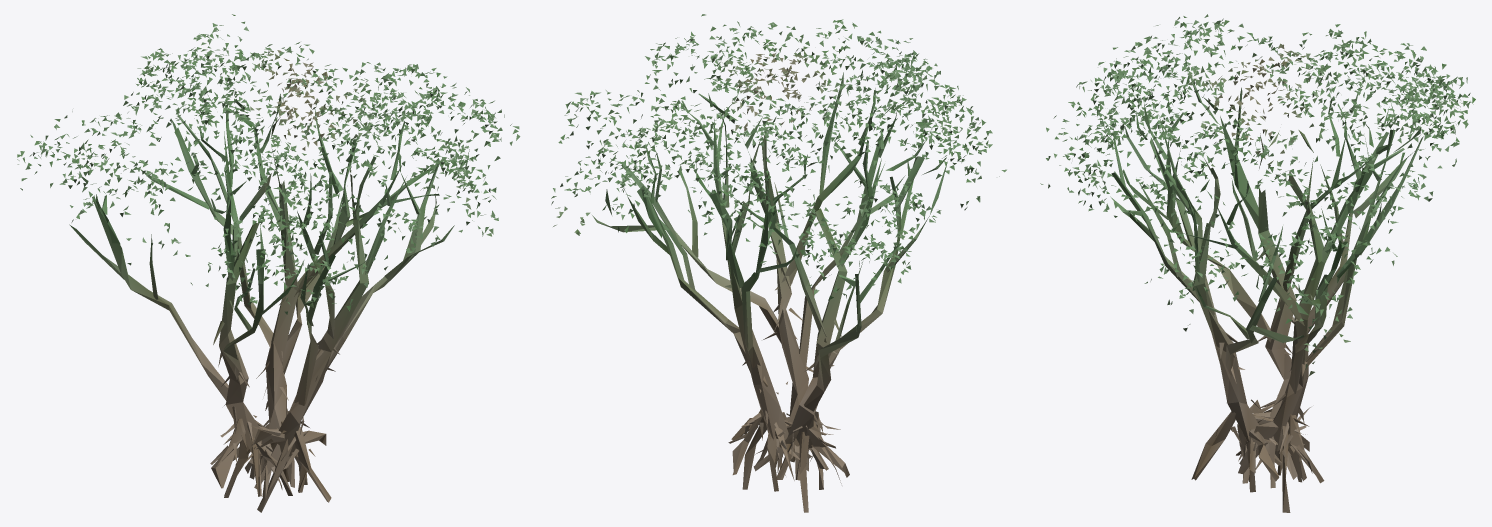
Rendered from mangrove-far.glb.
3 views of the same model, side by side, from view 1: azimuth 30°, elevation 25°; view 2: azimuth 150°, elevation 25°; view 3: azimuth 270°, elevation 25° (orthographic). The views are drawn at different scales.
Parts seen in each view (by area): view 1: world; view 2: world; view 3: world.
Boxes of the visible parts, <box> form: world: <box>17,14,520,512</box>; world: <box>551,14,1006,512</box>; world: <box>1040,14,1475,512</box>.
Bounding box in the file's own units: 6.26 × 6.34 × 5.56.
